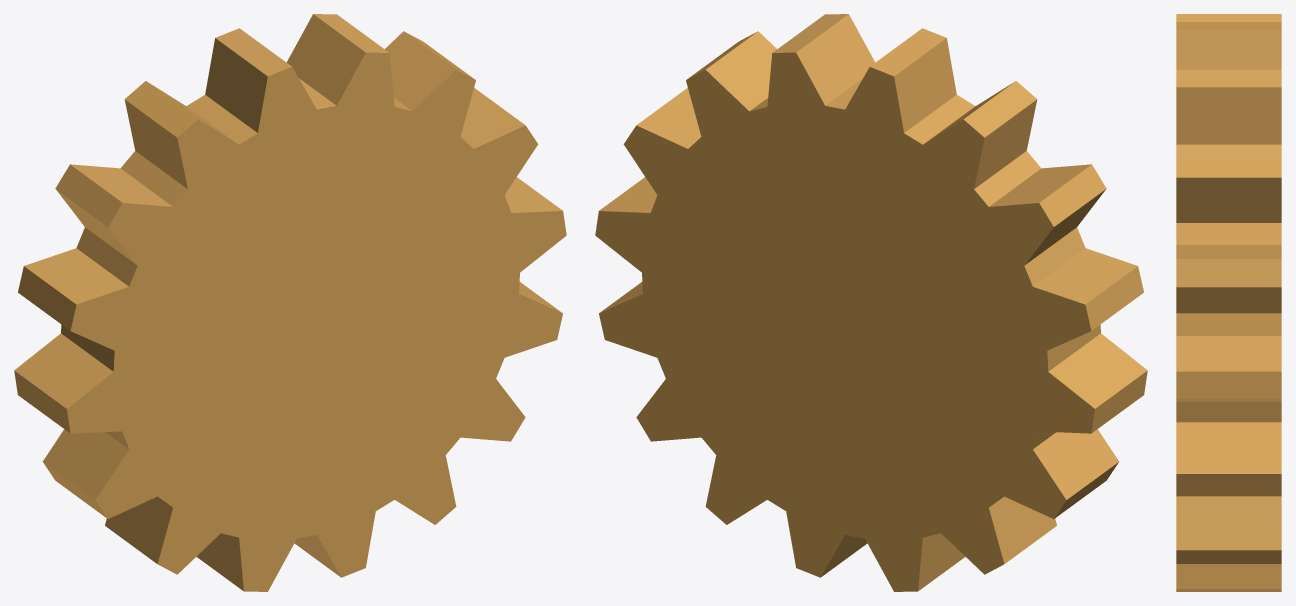
File: Gear_High.fbx
The picture shows the model from 3 angles, left to right: view 1: azimuth 30°, elevation 25°; view 2: azimuth 150°, elevation 25°; view 3: azimuth 270°, elevation 25°; orthographic projection.
Parts seen in each view (by area): view 1: SM_LiftGear_High; view 2: SM_LiftGear_High; view 3: SM_LiftGear_High.
Boxes of the visible parts, bbox=[...] form: SM_LiftGear_High: bbox=[14, 14, 566, 591]; SM_LiftGear_High: bbox=[595, 14, 1147, 591]; SM_LiftGear_High: bbox=[1176, 14, 1281, 591].
Size of the model in its own units: 219 by 40 by 219.
